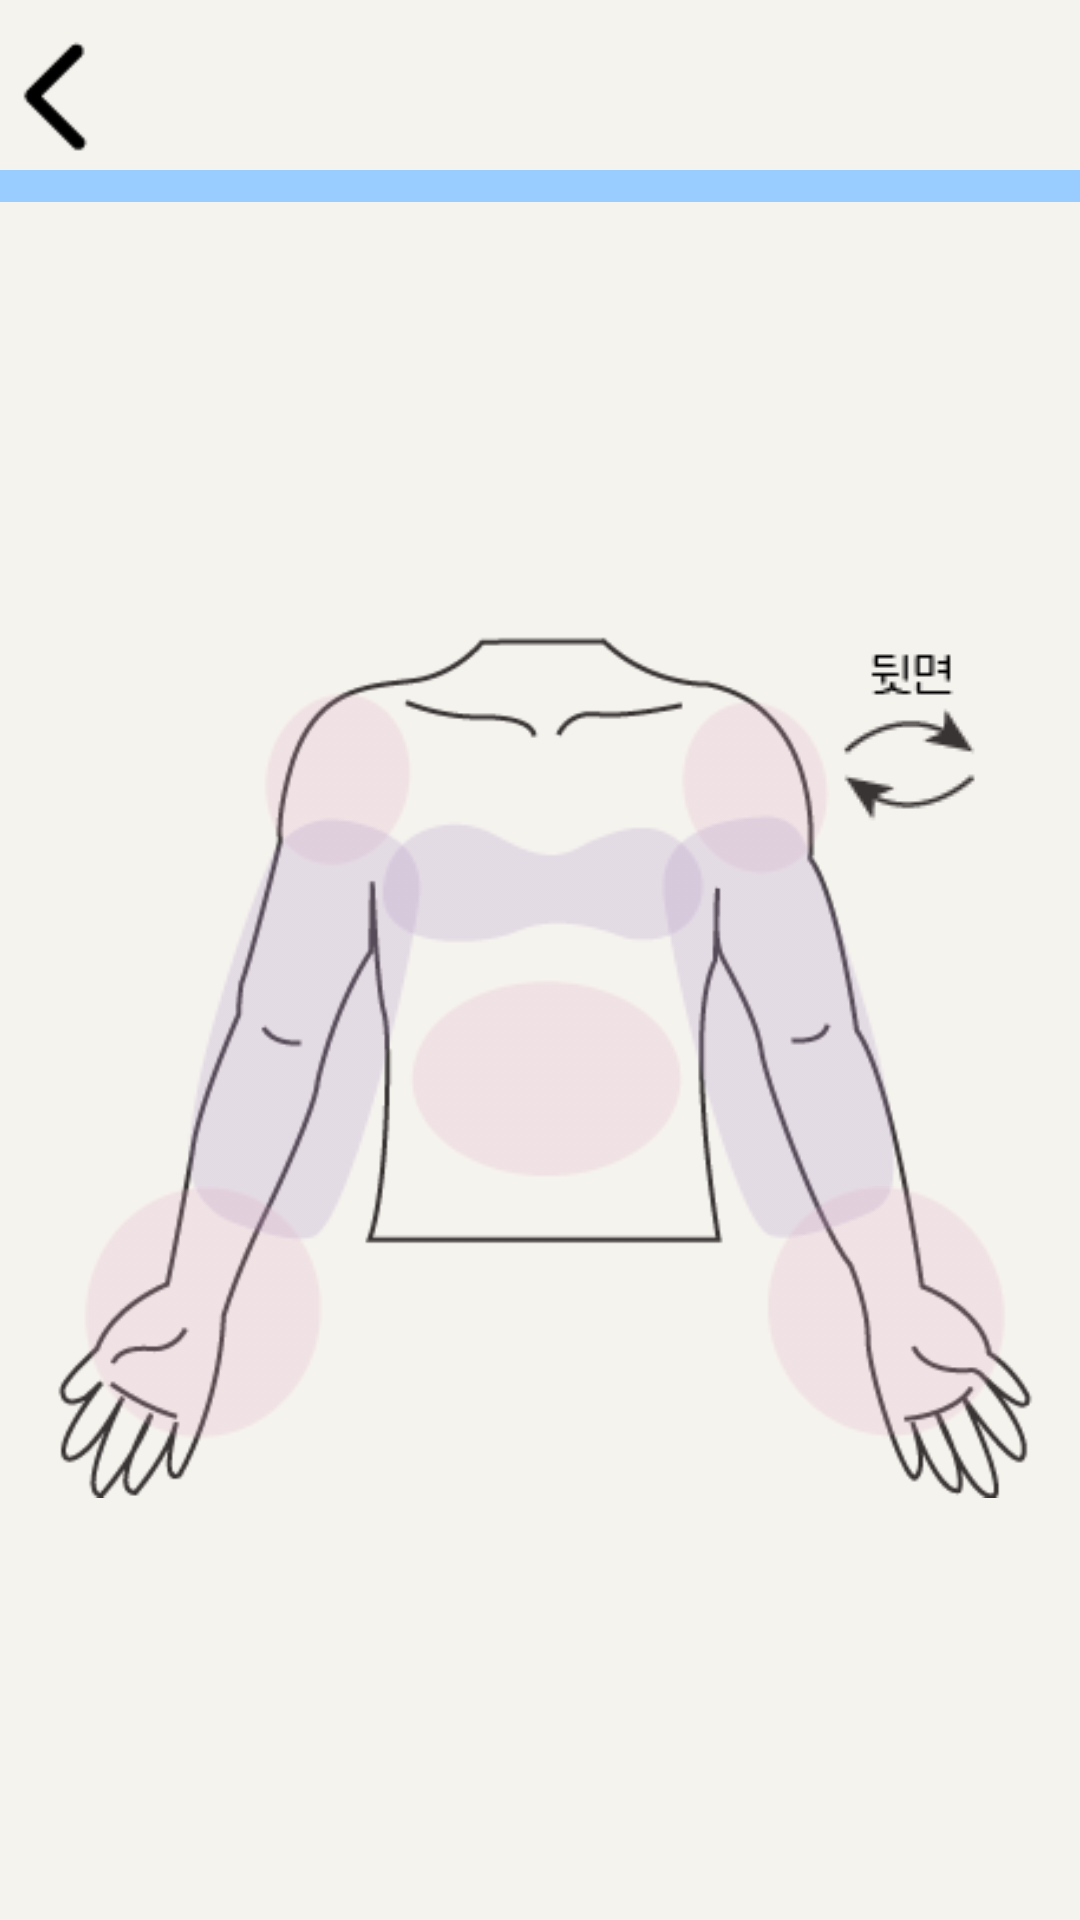

Named icons in this screenshot (1080 x 1920) and their centers, (x,y):
back: (55,96)
hand left: (205,1315)
hand right: (888,1315)
